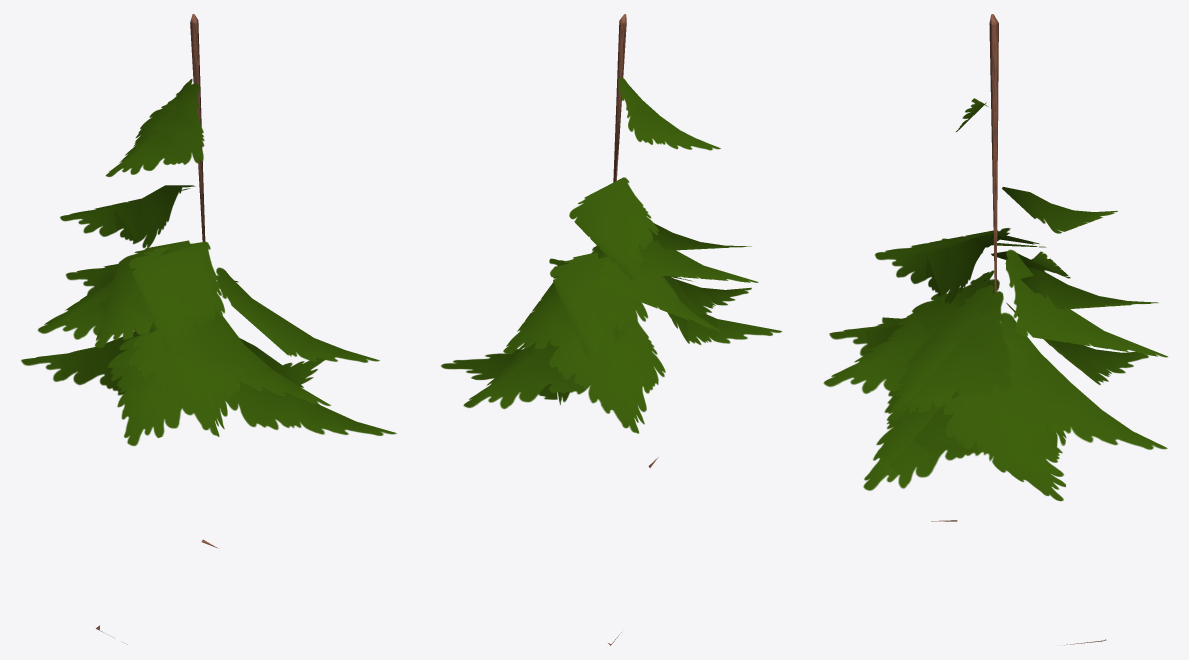
The model's file is pine1_far.glb.
3 views of the same model, side by side, from view 1: azimuth 30°, elevation 25°; view 2: azimuth 150°, elevation 25°; view 3: azimuth 270°, elevation 25° (orthographic). The views are drawn at different scales.
Visible parts, largest first — view 1: Pine_4; view 2: Pine_4; view 3: Pine_4.
Part boxes in pixels (left/top/right/bottom): Pine_4: left=21, top=14, right=396, bottom=644; Pine_4: left=441, top=14, right=782, bottom=645; Pine_4: left=823, top=14, right=1167, bottom=645.
Bounding box in the file's own units: 4.6 × 9.08 × 4.54.
Materials: 2 (2 with a texture image).
